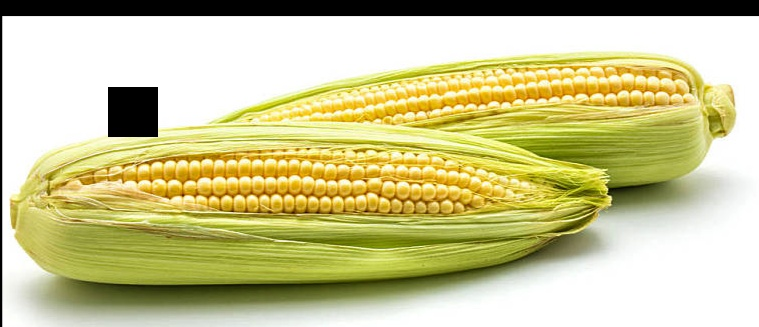corn: (3, 124, 614, 281), (189, 51, 735, 187)
